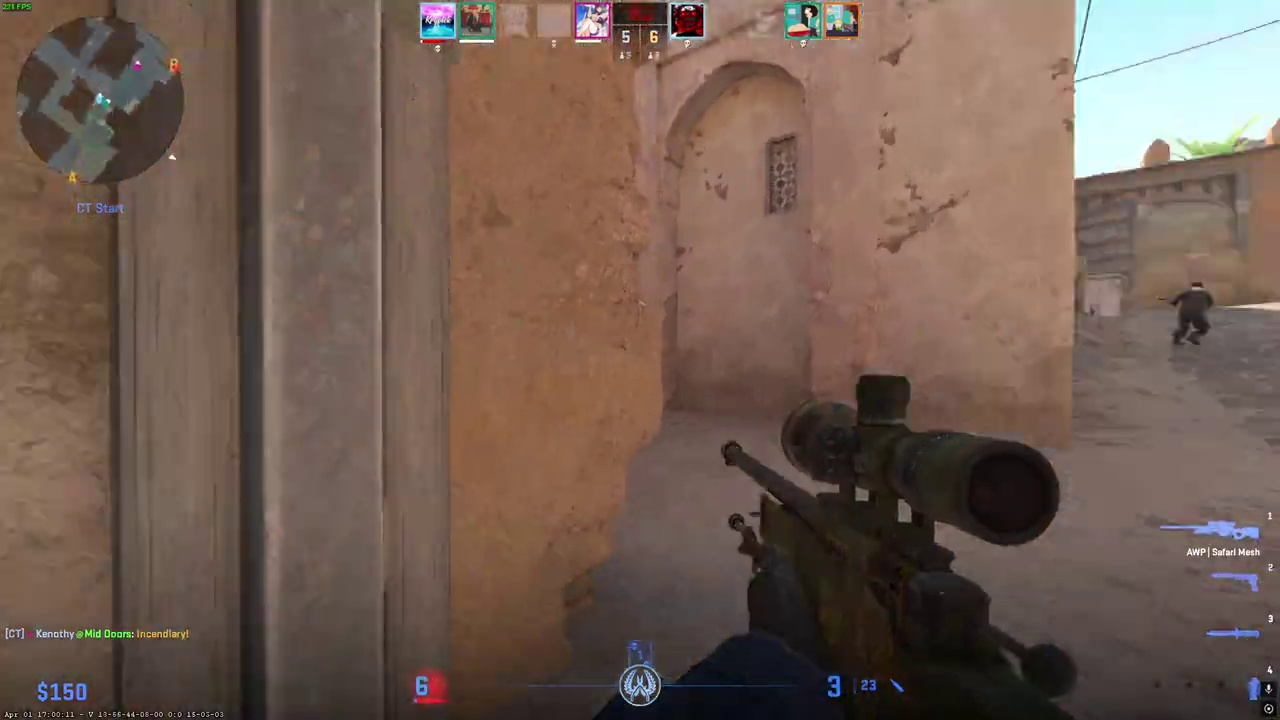CT: (1175, 281, 1212, 347)
